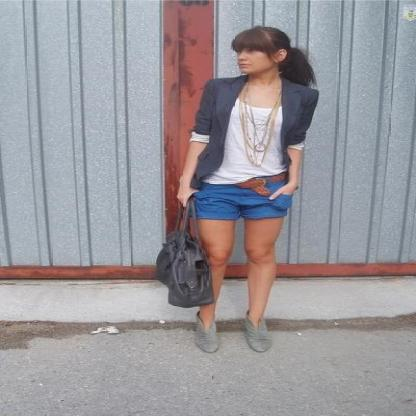bag: (151, 192, 218, 308)
jacket: (190, 75, 318, 190)
shirt: (212, 102, 284, 184)
shoe: (193, 314, 272, 353)
shorts: (192, 170, 292, 219)
